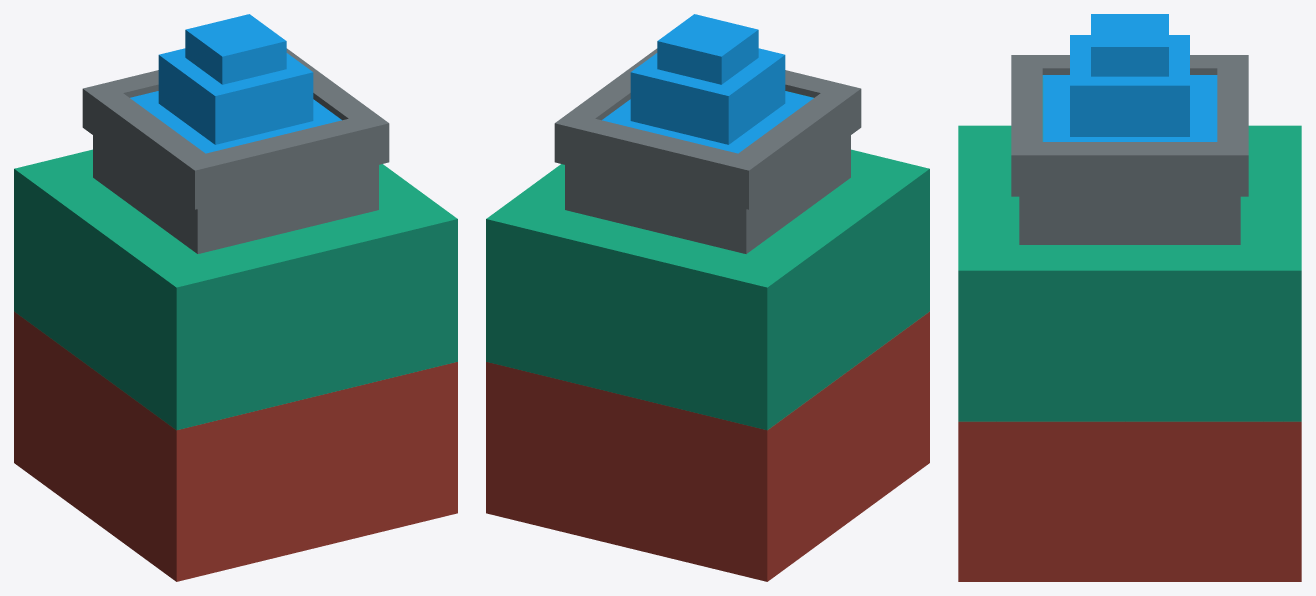
Rendered from 분수분수.FBX.
The picture shows the model from 3 angles, left to right: view 1: azimuth 30°, elevation 25°; view 2: azimuth 150°, elevation 25°; view 3: azimuth 270°, elevation 25°; orthographic projection. The views are drawn at different scales.
Parts seen in each view (by area): view 1: Box001; view 2: Box001; view 3: Box001.
Part boxes in pixels (x1=…): Box001: x1=14, y1=14, x2=457, y2=581; Box001: x1=486, y1=14, x2=929, y2=581; Box001: x1=958, y1=14, x2=1301, y2=581.
Size of the model in its own units: 39.37 by 60.57 by 39.37.
